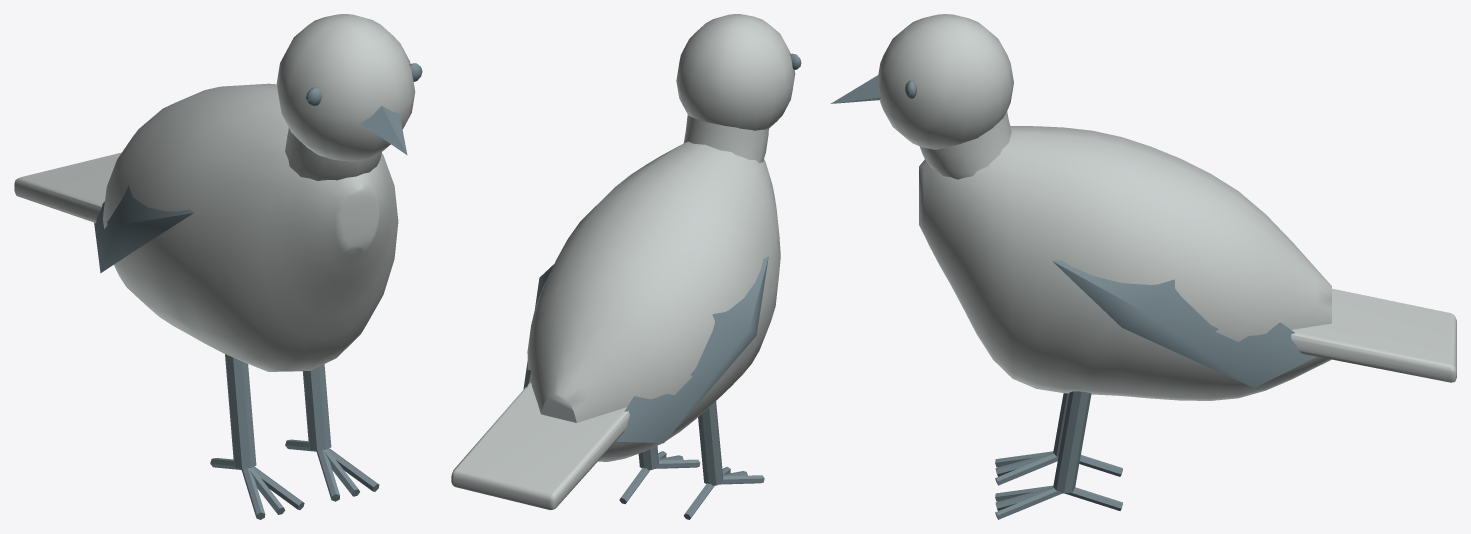
The model's file is pigeon.glb.
3 views of the same model, side by side, from view 1: azimuth 30°, elevation 25°; view 2: azimuth 150°, elevation 25°; view 3: azimuth 270°, elevation 25° (orthographic). The views are drawn at different scales.
Visible parts, largest first — view 1: bird_body, head, tail_fan, folded_wing, leg, neck, leg.001, beak, toe.005, toe.002, toe, toe.003 (+2 smaller); view 2: bird_body, tail_fan, head, folded_wing, neck, leg; view 3: bird_body, head, folded_wing.001, tail_fan, neck, leg.001.
Boxes of the visible parts, x1,y1,x2,y2 form: bird_body: [103, 83, 398, 371]; head: [276, 14, 415, 161]; tail_fan: [14, 152, 121, 222]; folded_wing: [94, 185, 193, 273]; leg: [225, 354, 256, 468]; neck: [285, 127, 381, 180]; leg.001: [303, 364, 331, 450]; beak: [360, 106, 407, 155]; toe.005: [327, 448, 379, 491]; toe.002: [252, 466, 304, 509]; toe: [241, 468, 265, 519]; toe.003: [316, 449, 339, 501]; bird_body: [527, 141, 780, 461]; tail_fan: [451, 382, 629, 509]; head: [676, 14, 795, 130]; folded_wing: [616, 256, 768, 443]; neck: [684, 115, 768, 162]; leg: [698, 401, 723, 485]; bird_body: [919, 126, 1331, 400]; head: [878, 14, 1013, 149]; folded_wing.001: [1052, 260, 1316, 387]; tail_fan: [1291, 288, 1456, 382]; neck: [919, 111, 1011, 179]; leg.001: [1053, 391, 1091, 492].
Bounding box in the file's own units: 0.17 × 0.3359 × 0.402.
